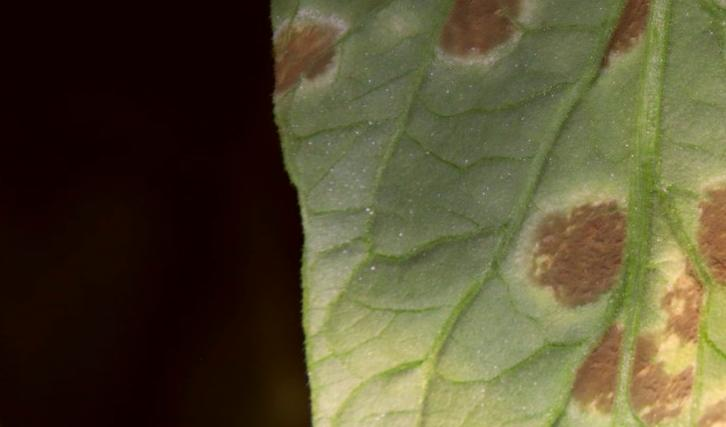Tomato mold leaf: (257, 0, 726, 427)
